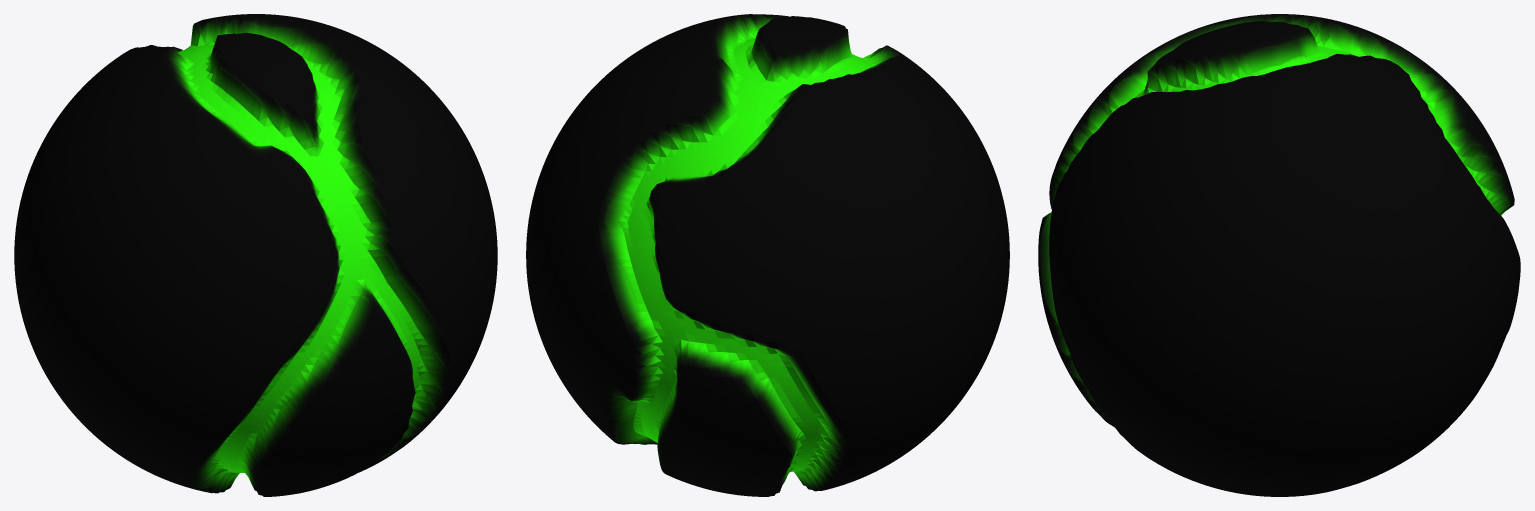
File: planet1.fbx
3 renders of one model, left to right at view 1: azimuth 30°, elevation 25°; view 2: azimuth 150°, elevation 25°; view 3: azimuth 270°, elevation 25°, orthographic.
Parts seen in each view (by area): view 1: Icosphere; view 2: Icosphere; view 3: Icosphere.
Boxes of the visible parts, <box> form: Icosphere: <box>14,14,497,496</box>; Icosphere: <box>526,14,1009,496</box>; Icosphere: <box>1038,14,1520,496</box>.
Bounding box in the file's own units: 230 × 229 × 230.
1 material, 1 textured.
